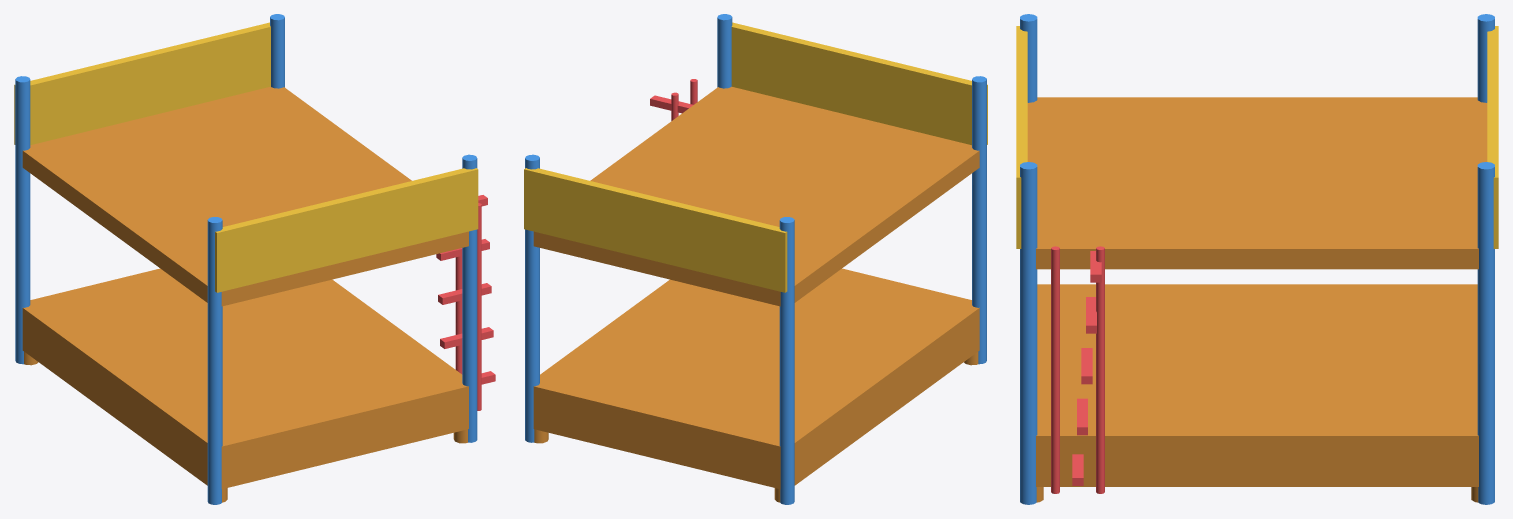
Rendered from bed_fun_1.glb.
3 views of the same model, side by side, from view 1: azimuth 30°, elevation 25°; view 2: azimuth 150°, elevation 25°; view 3: azimuth 270°, elevation 25° (orthographic). The views are drawn at different scales.
Bounding box in the file's own units: 1.87 × 1.65 × 2.15.
